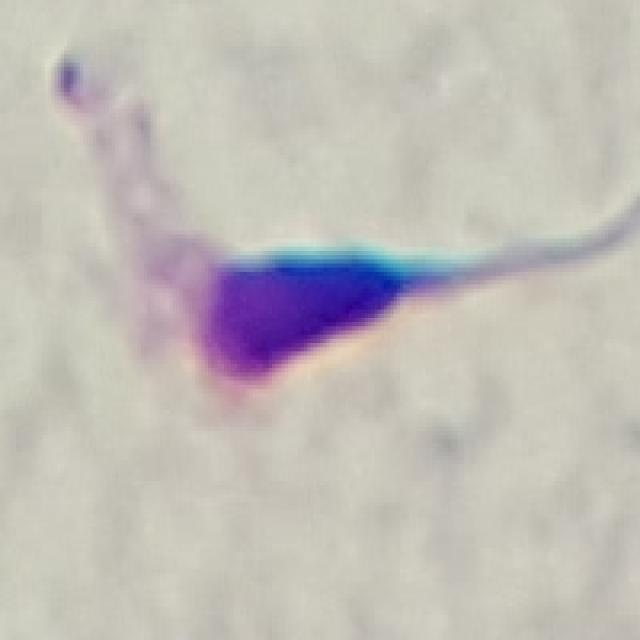abnormal sperm: (176, 205, 640, 410)
